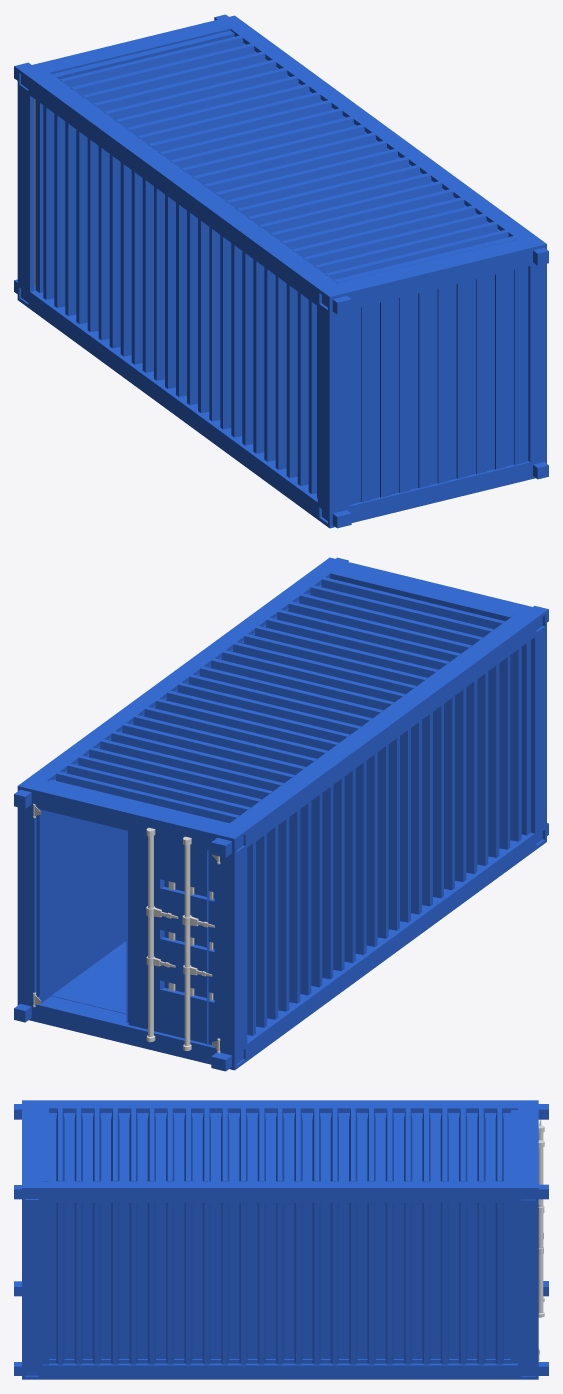
3 renders of one model, top to bottom at view 1: azimuth 30°, elevation 25°; view 2: azimuth 150°, elevation 25°; view 3: azimuth 270°, elevation 25°, orthographic. The views are drawn at different scales.
Parts seen in each view (by area): view 1: Cube.014, Cube.012, Cube.013, Cube.016, Plane.006, Plane.011; view 2: Cube.012, Cube.014, Cube.013, Plane.001, Plane.003, Cylinder.016, Cylinder.019, Plane.011, Cube.015; view 3: Cube.015, Cube.012, Plane.005, Cube.013, Cylinder.019.
Part boxes in pixels (<box>): Cube.014: <box>35,100,317,497</box>; Cube.012: <box>14,14,548,528</box>; Cube.013: <box>52,30,517,283</box>; Cube.016: <box>349,267,525,504</box>; Plane.006: <box>353,266,528,503</box>; Plane.011: <box>34,285,317,498</box>; Cube.012: <box>14,557,548,1071</box>; Cube.014: <box>247,640,530,1035</box>; Cube.013: <box>49,570,514,824</box>; Plane.001: <box>126,830,214,1044</box>; Plane.003: <box>39,809,126,1003</box>; Cylinder.016: <box>183,836,191,1050</box>; Cylinder.019: <box>146,827,155,1042</box>; Plane.011: <box>38,834,528,1039</box>; Cube.015: <box>36,585,321,996</box>; Cube.015: <box>42,1203,517,1364</box>; Cube.012: <box>14,1100,548,1379</box>; Plane.005: <box>49,1113,510,1181</box>; Cube.013: <box>42,1108,517,1181</box>; Cylinder.019: <box>538,1140,544,1317</box>.
Size of the model in its own units: 583 by 594 by 1502.
